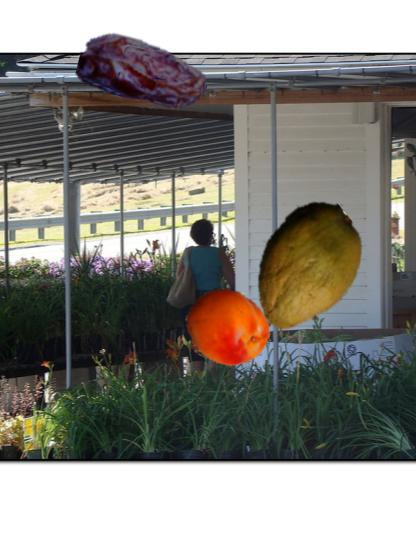Apricot: (185, 284, 271, 370)
Dates: (78, 7, 209, 138)
Papaya: (240, 200, 370, 330)
